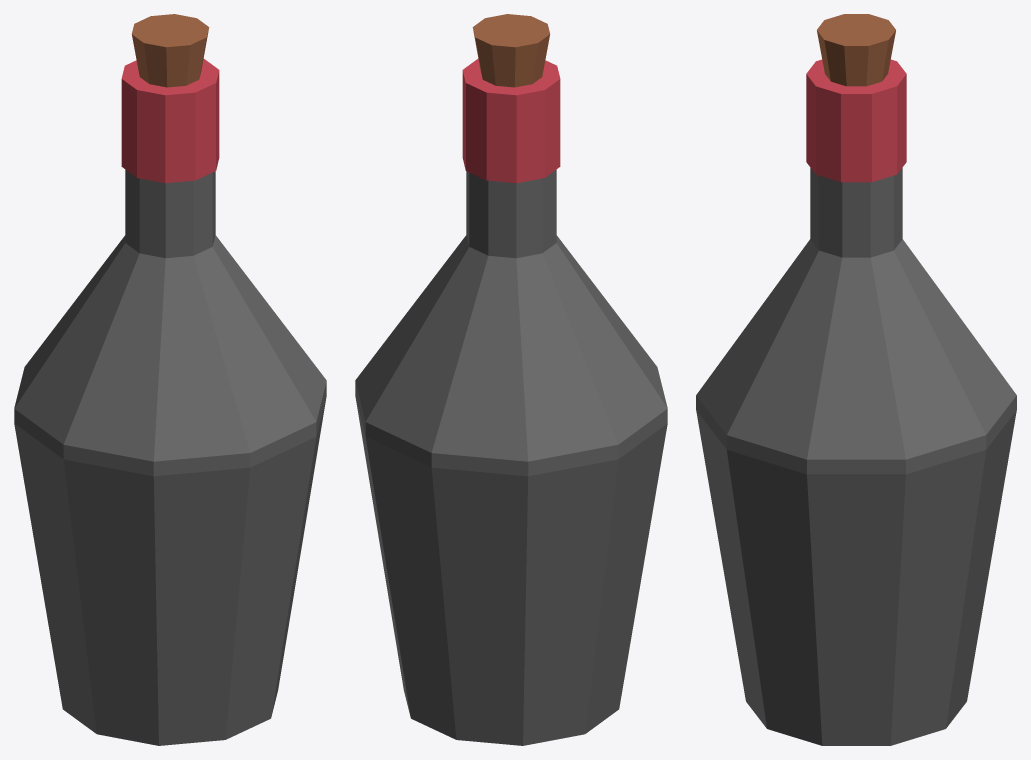
Rendered from wine.obj.
The picture shows the model from 3 angles, left to right: view 1: azimuth 30°, elevation 25°; view 2: azimuth 150°, elevation 25°; view 3: azimuth 270°, elevation 25°; orthographic projection.
Visible parts, largest first — view 1: wine; view 2: wine; view 3: wine.
Boxes of the visible parts, <box> form: wine: <box>14,14,326,745</box>; wine: <box>355,14,667,745</box>; wine: <box>696,14,1016,745</box>.
Size of the model in its own units: 0.0663 by 0.161 by 0.0697.
